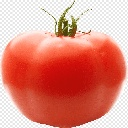tomato: (1, 30, 128, 128)
